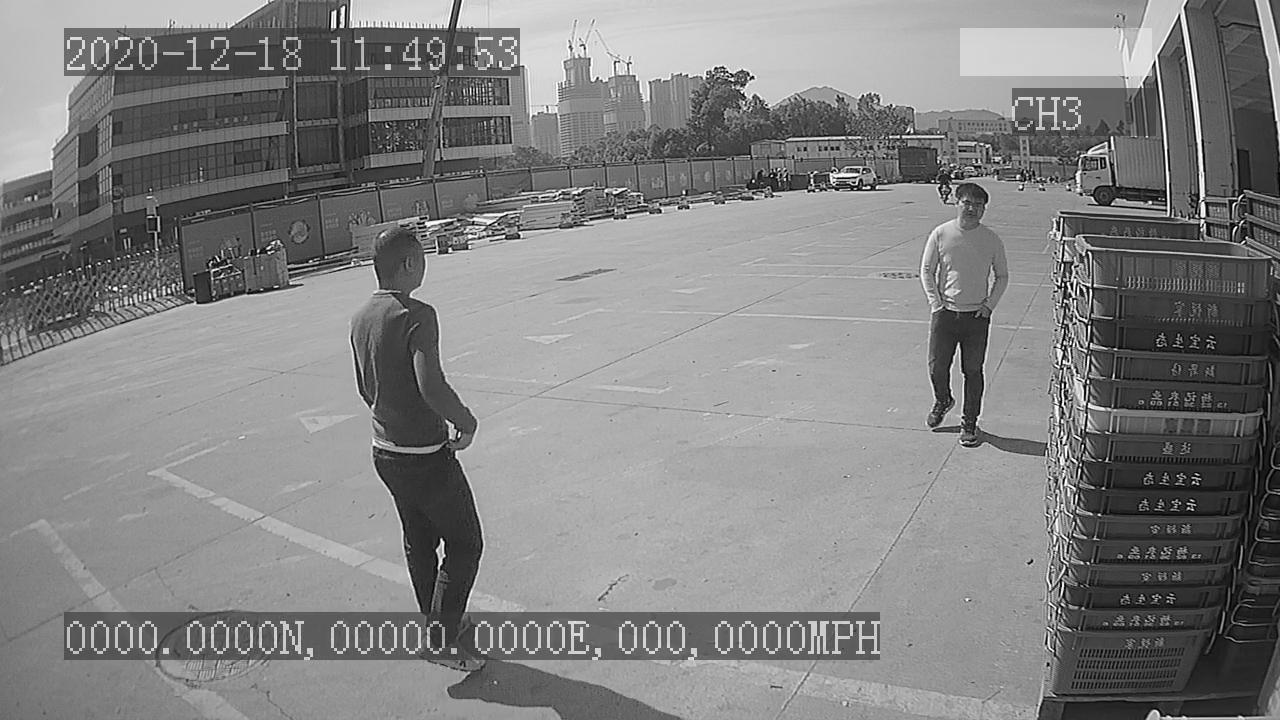person: (917, 177, 1015, 449)
